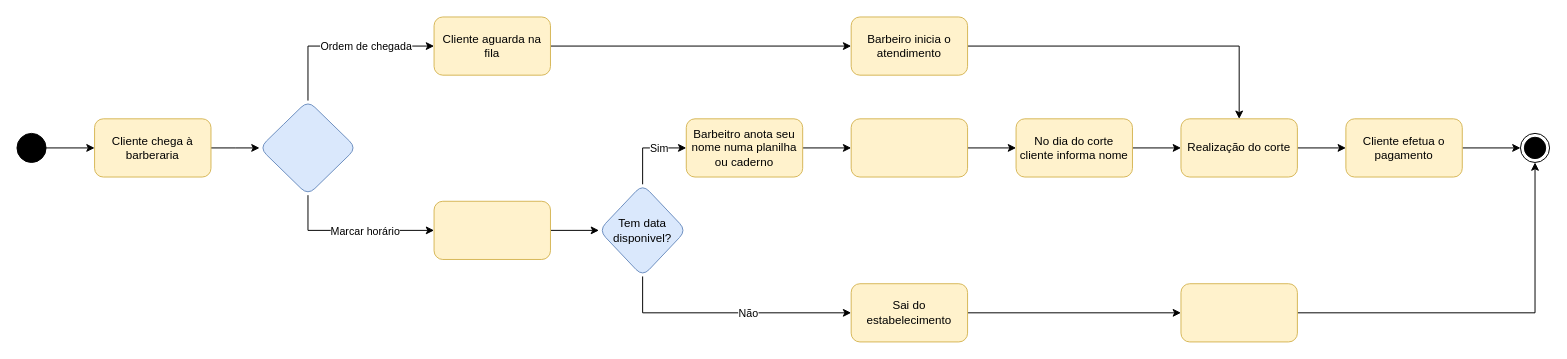
This 1567x359 diagram has some shape labels left out. Here are the shapes that lost their labels. From the top down, the centre of each, then its label:
At pixel 307 147: "Ordem de chegada ou marcar horário?".
At pixel 909 147: "Espera dia do corte".
At pixel 491 229: "Cliente pergunta se tem data disponivel".
At pixel 1238 312: "Procura outro barbeiro da região".
